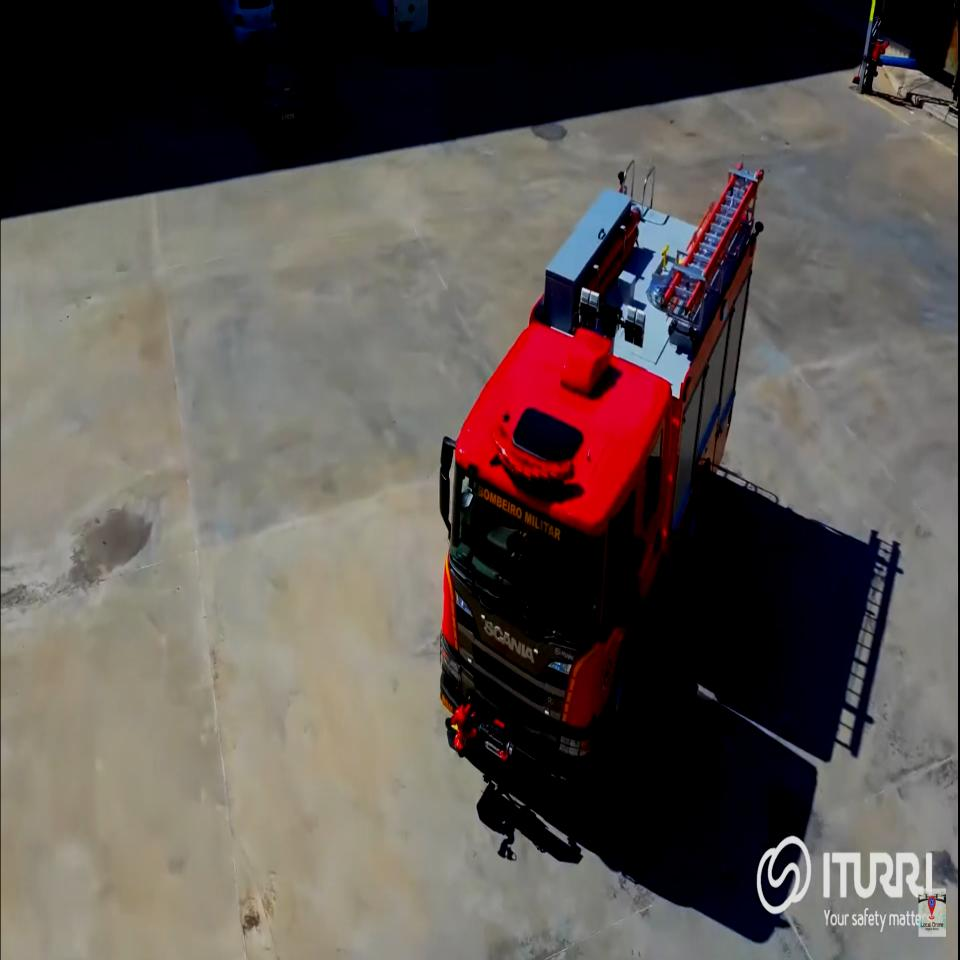bombeiro: (438, 138, 767, 796)
